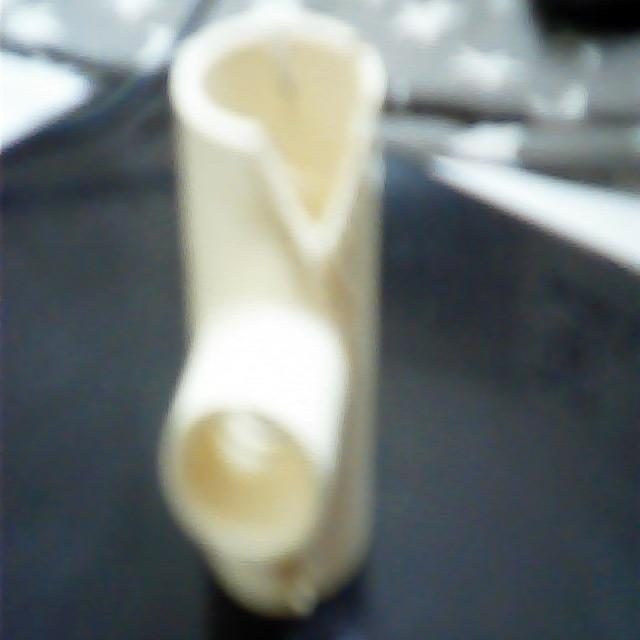Defective: (248, 109, 370, 267)
T Joint: (156, 11, 387, 618)
